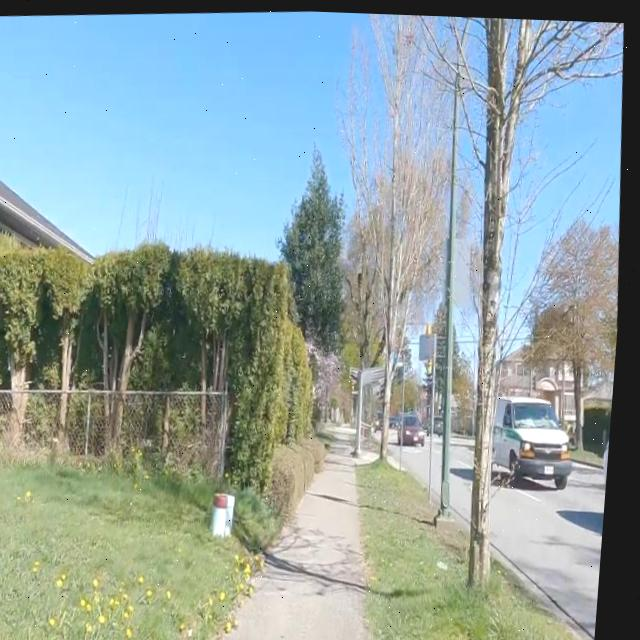Automobile: (499, 393, 578, 484), (404, 409, 430, 441), (611, 437, 616, 488), (440, 413, 448, 431), (382, 409, 389, 428), (395, 415, 404, 426)
Obstacle: (476, 14, 621, 581), (0, 458, 272, 640), (365, 458, 587, 640), (234, 260, 318, 489), (126, 369, 226, 472), (276, 434, 334, 523), (448, 55, 459, 512), (70, 383, 124, 455), (240, 486, 291, 548), (360, 364, 389, 454), (28, 385, 65, 447), (0, 388, 18, 452), (386, 374, 395, 458)
Road: (500, 458, 612, 640), (499, 459, 613, 631), (460, 436, 477, 542), (458, 442, 479, 516), (411, 438, 435, 485)
Sidewalk: (231, 421, 375, 640), (232, 451, 376, 640)
